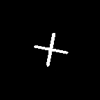single_crochet: (34, 33, 67, 65)
